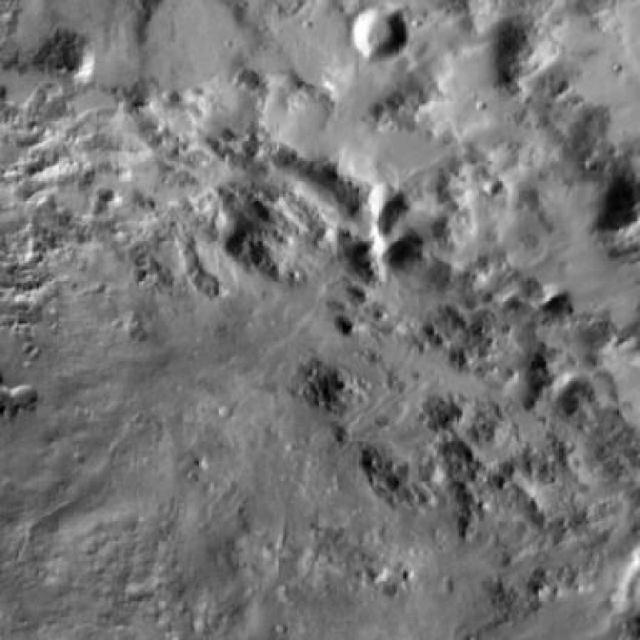crater: (340, 3, 402, 59)
